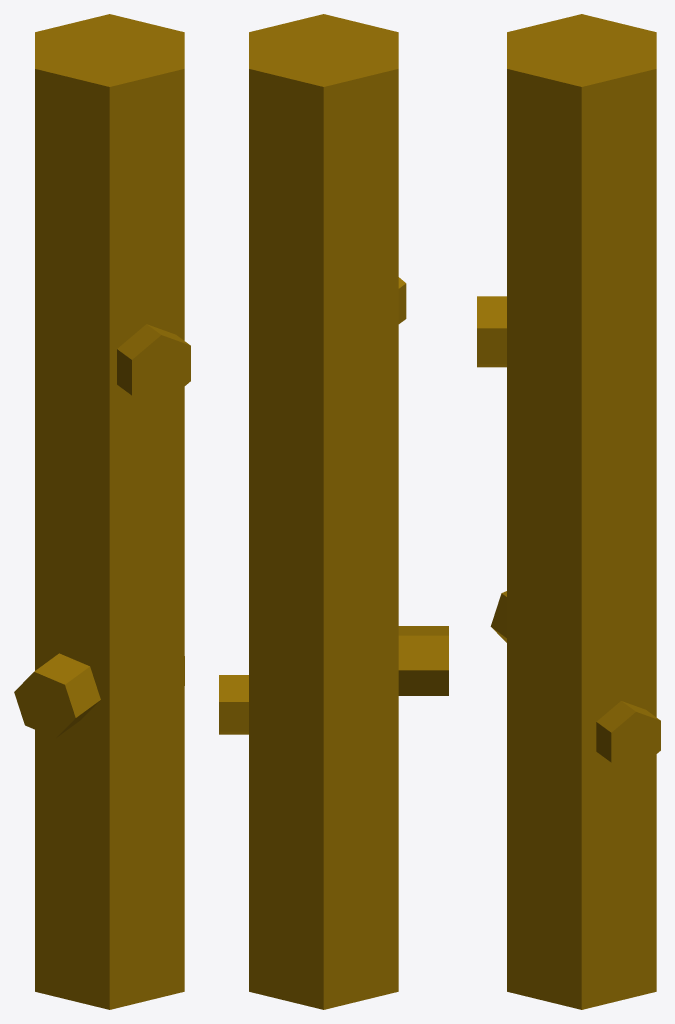
Rendered from Vegetation_Modular_Tree_Trunk_Alpine_04.fbx.
The picture shows the model from 3 angles, left to right: view 1: azimuth 30°, elevation 25°; view 2: azimuth 150°, elevation 25°; view 3: azimuth 270°, elevation 25°; orthographic projection.
Visible parts, largest first — view 1: Vegetation_Modular_Tree_Trunk_Alpine_04; view 2: Vegetation_Modular_Tree_Trunk_Alpine_04; view 3: Vegetation_Modular_Tree_Trunk_Alpine_04.
Part boxes in pixels (x1=…): Vegetation_Modular_Tree_Trunk_Alpine_04: x1=14, y1=14, x2=190, y2=1009; Vegetation_Modular_Tree_Trunk_Alpine_04: x1=219, y1=14, x2=448, y2=1009; Vegetation_Modular_Tree_Trunk_Alpine_04: x1=477, y1=14, x2=660, y2=1009.
Size of the model in its own units: 396 by 1742 by 314.
